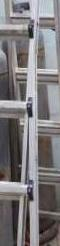cylinder: (1, 1, 60, 246)
